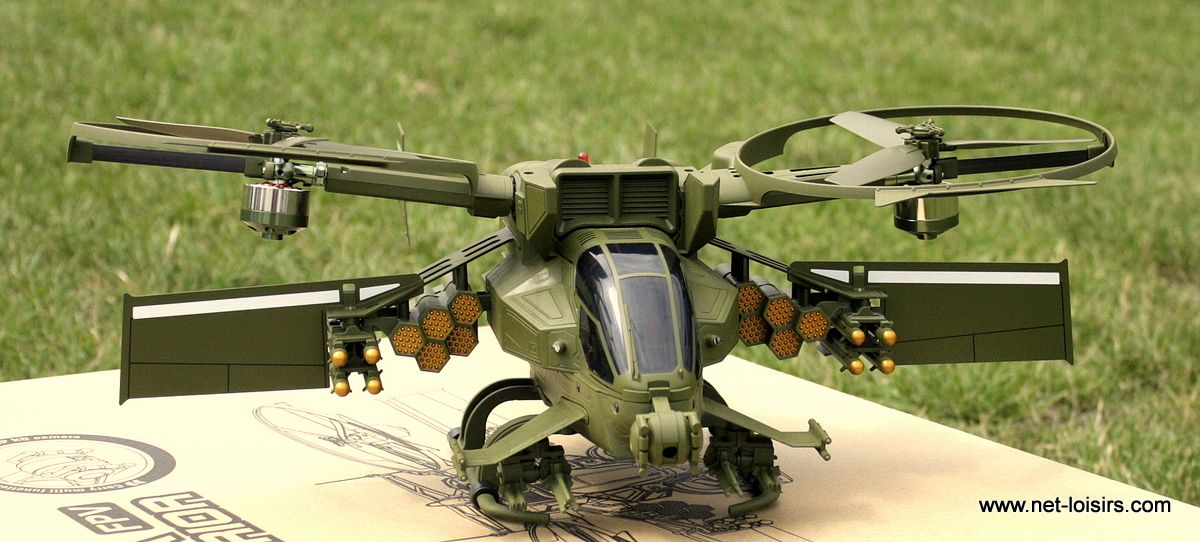drone: (64, 101, 1122, 521)
